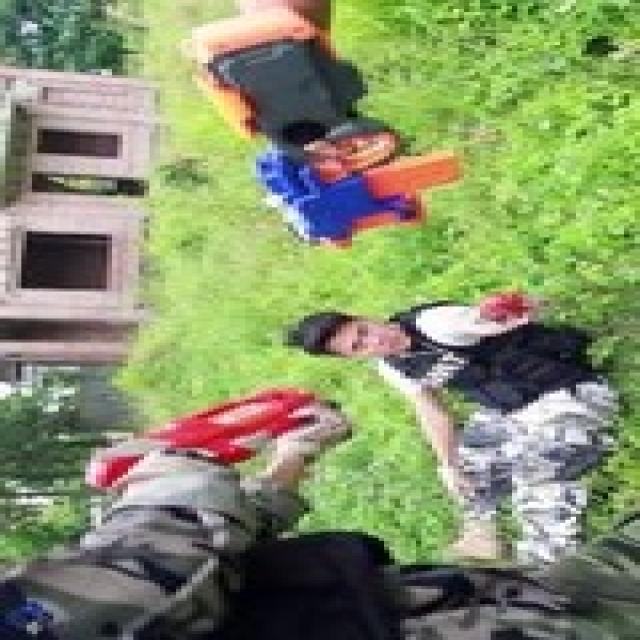Nerf gun: (171, 1, 480, 257), (75, 376, 352, 508)
